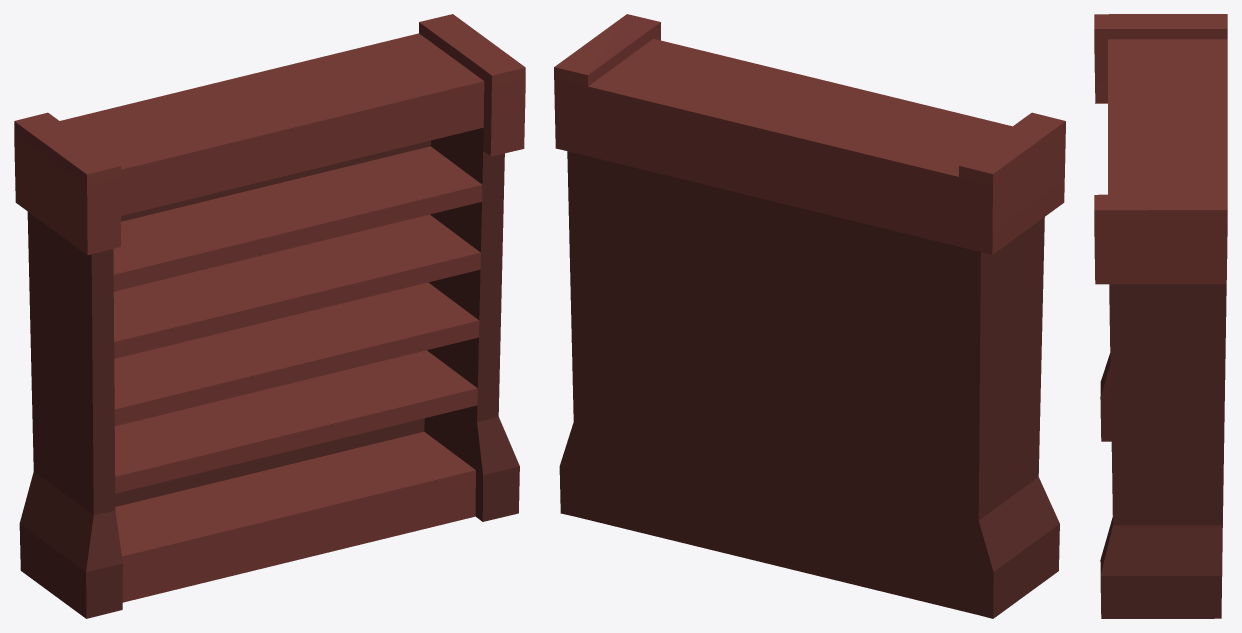
File: quaternius-book-case-large.glb
The picture shows the model from 3 angles, left to right: view 1: azimuth 30°, elevation 25°; view 2: azimuth 150°, elevation 25°; view 3: azimuth 270°, elevation 25°; orthographic projection. The views are drawn at different scales.
Parts seen in each view (by area): view 1: BookCaseLarge; view 2: BookCaseLarge; view 3: BookCaseLarge.
Part boxes in pixels (box(x1,y1,x2,y2)): BookCaseLarge: box(14, 14, 525, 618); BookCaseLarge: box(554, 14, 1065, 618); BookCaseLarge: box(1094, 14, 1227, 618).
Size of the model in its own units: 1.57 by 1.53 by 0.4519.
